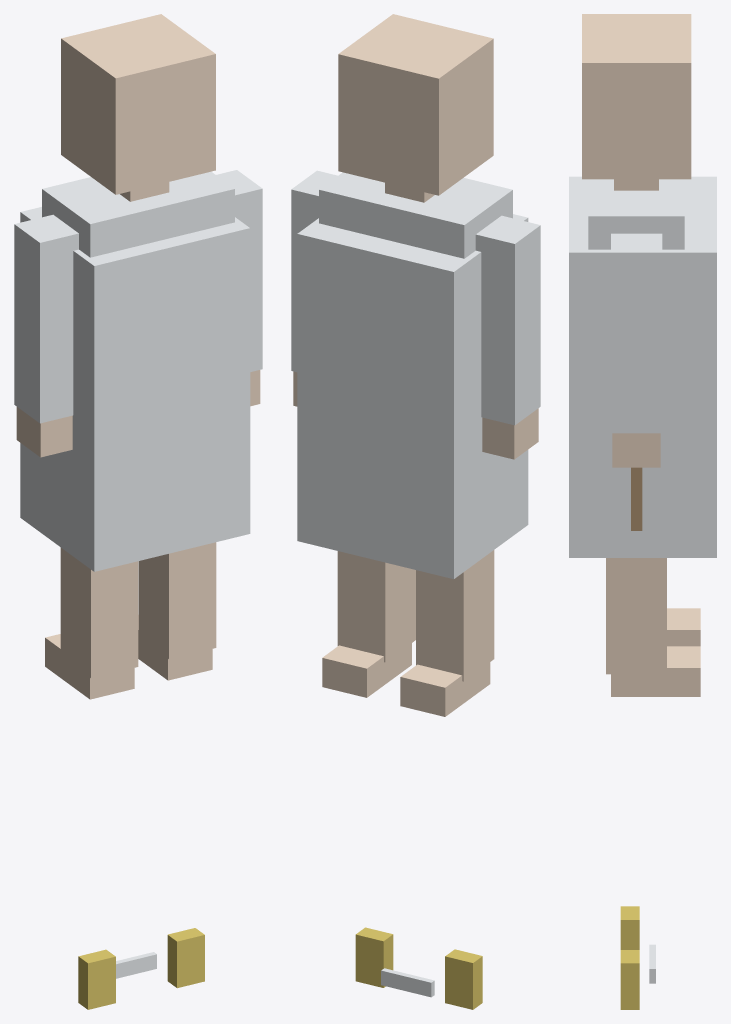
The model's file is prometheus.glb.
3 views of the same model, side by side, from view 1: azimuth 30°, elevation 25°; view 2: azimuth 150°, elevation 25°; view 3: azimuth 270°, elevation 25° (orthographic).
Parts seen in each view (by area): view 1: outfit_tunic_0, head, arm_L_upper, torso, leg_L_shin, leg_R_shin, arm_R_upper, leg_L_foot, outfit_sandals_0, outfit_sandals_1, arm_L_hand, leg_R_foot (+1 smaller); view 2: outfit_tunic_0, head, arm_L_upper, torso, leg_L_shin, leg_R_shin, leg_L_foot, leg_R_foot, arm_R_upper, outfit_sandals_0, arm_L_hand, outfit_sandals_1 (+1 smaller); view 3: outfit_tunic_0, head, arm_R_upper, leg_R_shin, torso, leg_R_foot, arm_R_hand, leg_L_foot, outfit_sandals_1, outfit_sandals_0, prop, neck.
Boxes of the visible parts, bbox=[...] form: outfit_tunic_0: bbox=[20, 207, 250, 571]; head: bbox=[61, 14, 215, 194]; arm_L_upper: bbox=[14, 214, 78, 423]; torso: bbox=[42, 171, 234, 257]; leg_L_shin: bbox=[60, 547, 138, 678]; leg_R_shin: bbox=[138, 542, 216, 659]; arm_R_upper: bbox=[216, 170, 262, 371]; leg_L_foot: bbox=[45, 634, 134, 699]; outfit_sandals_0: bbox=[78, 949, 115, 1009]; outfit_sandals_1: bbox=[167, 928, 204, 988]; arm_L_hand: bbox=[16, 407, 72, 457]; leg_R_foot: bbox=[138, 615, 212, 680]; outfit_tunic_0: bbox=[297, 214, 528, 579]; head: bbox=[338, 14, 493, 195]; arm_L_upper: bbox=[475, 215, 540, 425]; torso: bbox=[319, 172, 512, 258]; leg_L_shin: bbox=[416, 550, 494, 681]; leg_R_shin: bbox=[337, 551, 415, 662]; leg_L_foot: bbox=[400, 662, 490, 716]; leg_R_foot: bbox=[322, 643, 411, 697]; arm_R_upper: bbox=[291, 170, 337, 372]; outfit_sandals_0: bbox=[445, 949, 482, 1009]; arm_L_hand: bbox=[482, 408, 538, 459]; outfit_sandals_1: bbox=[355, 927, 393, 987]; outfit_tunic_0: bbox=[569, 176, 716, 557]; head: bbox=[582, 14, 691, 179]; arm_R_upper: bbox=[611, 233, 662, 433]; leg_R_shin: bbox=[606, 558, 666, 674]; torso: bbox=[588, 179, 684, 249]; leg_R_foot: bbox=[611, 646, 700, 696]; arm_R_hand: bbox=[612, 433, 660, 467]; leg_L_foot: bbox=[667, 608, 700, 646]; outfit_sandals_1: bbox=[620, 950, 639, 1009]; outfit_sandals_0: bbox=[620, 906, 639, 949]; prop: bbox=[631, 467, 642, 530]; neck: bbox=[614, 179, 658, 190].
Size of the model in its own units: 0.8 by 3.24 by 0.46.
